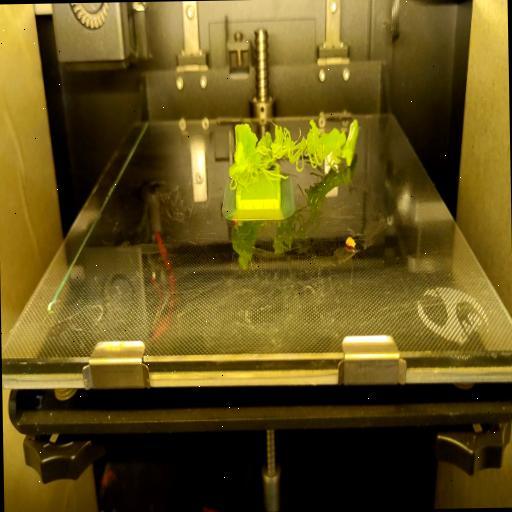spaghetti: (228, 114, 344, 186)
